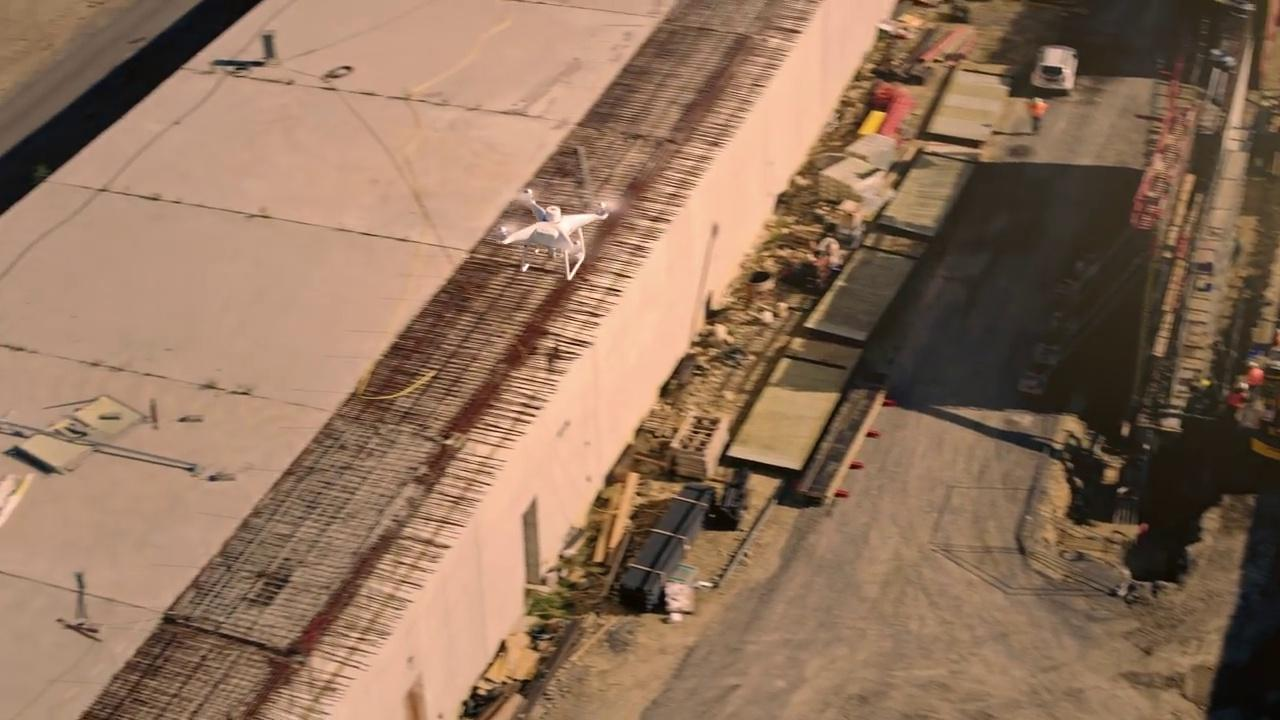drone: (491, 181, 627, 277)
